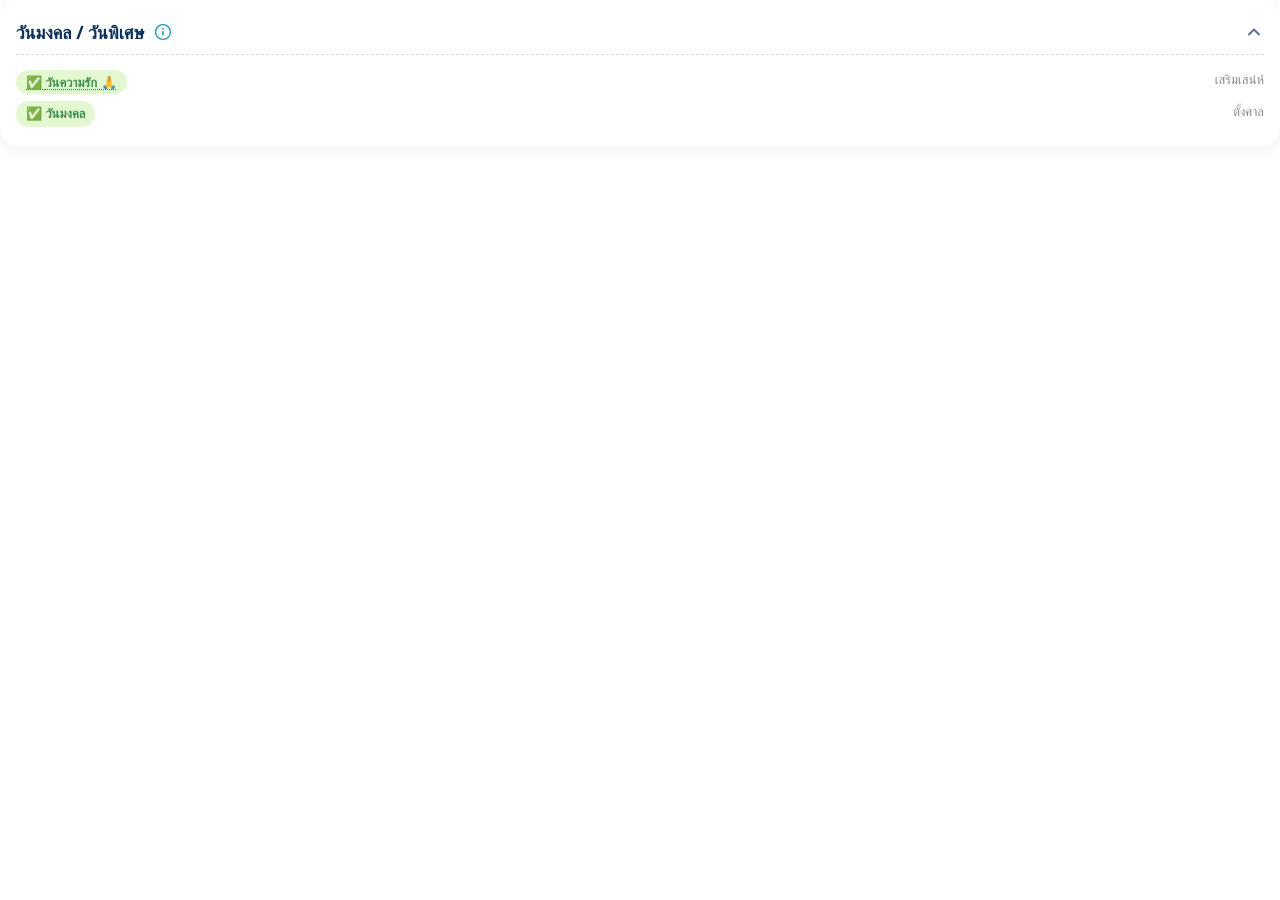
Test: SpecialDays interactive › วันความรัก กดได้ → เปิดแผงคำอธิษฐาน + สถานที่; วันมงคล กดไม่ได้
Click the button with test id "special-day-open" at point(71, 81), box x1=16 y1=69 x2=127 y2=93
(page scrolled)
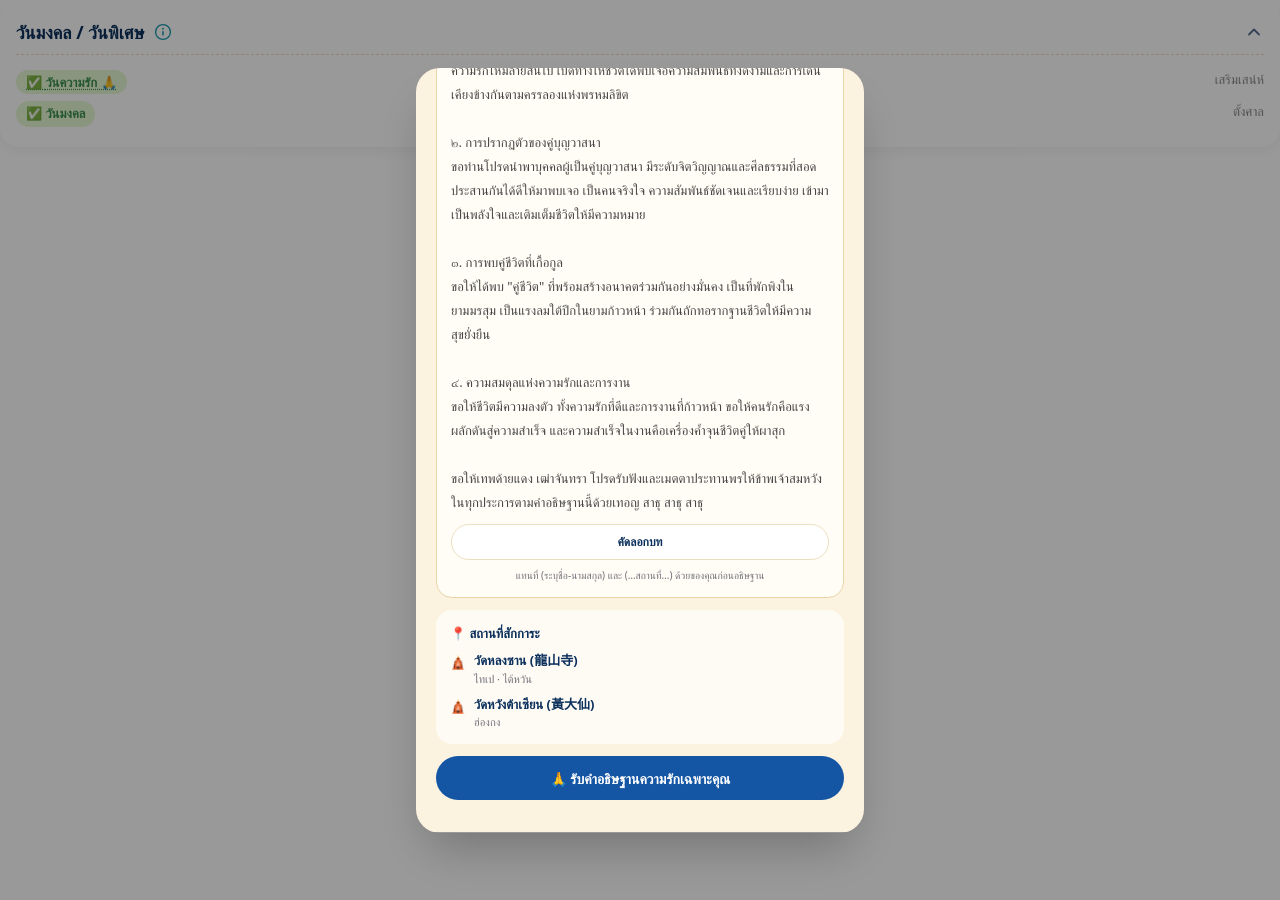
Expected: the element with test id "special-day-prayer" is shown, x1=436 y1=68 x2=844 y2=598
Expected: the element with test id "special-day-shrines" is shown, x1=436 y1=610 x2=844 y2=744
